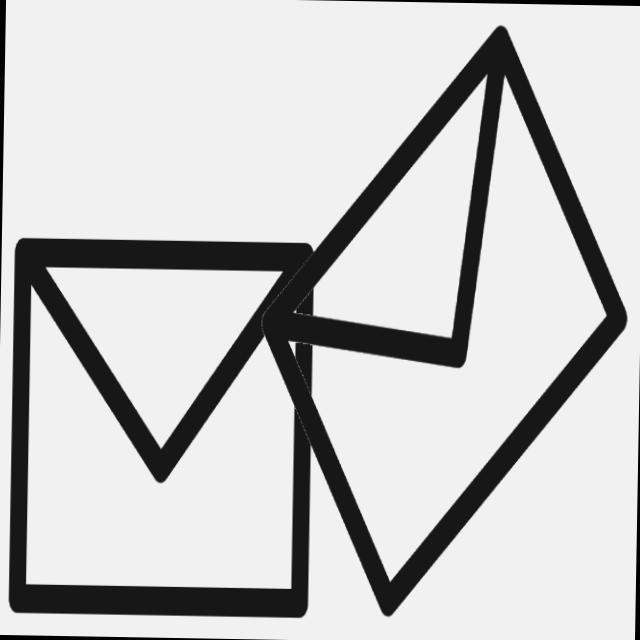letter: (246, 16, 638, 630), (4, 218, 321, 629)
